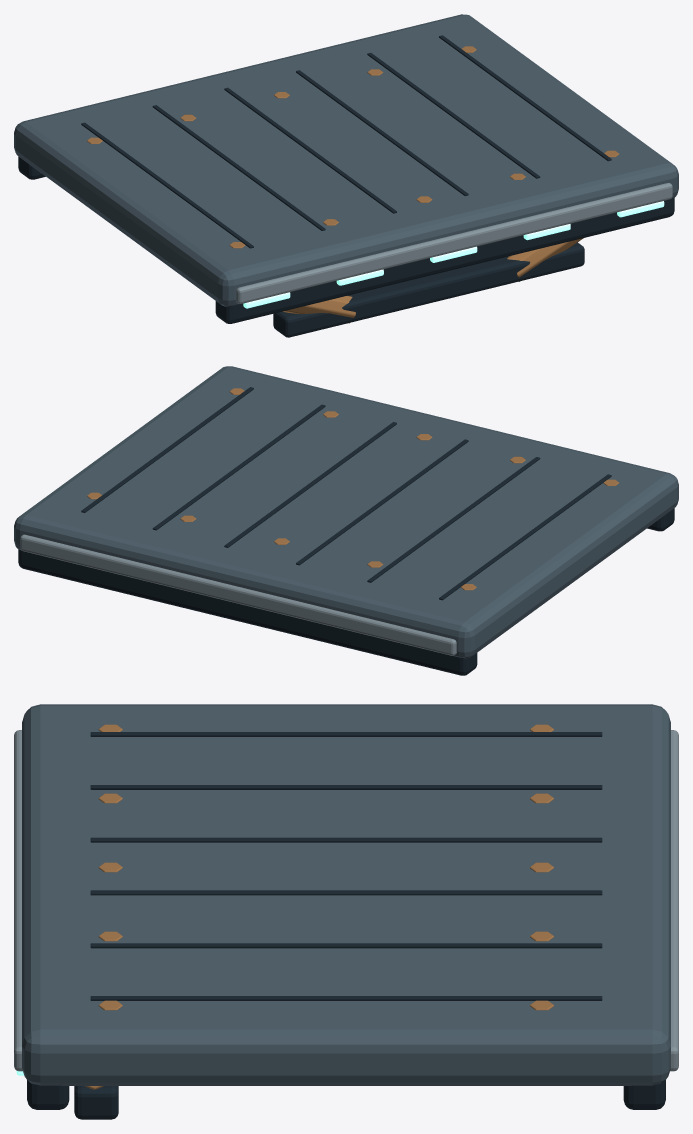
Rendered from traverse_ledge.glb.
The picture shows the model from 3 angles, top to bottom: view 1: azimuth 30°, elevation 25°; view 2: azimuth 150°, elevation 25°; view 3: azimuth 270°, elevation 25°; orthographic projection. The views are drawn at different scales.
Visible parts, largest first — view 1: traverse_ledge; view 2: traverse_ledge; view 3: traverse_ledge.
Part boxes in pixels (left/top/right/bottom): traverse_ledge: left=14, top=14, right=678, bottom=337; traverse_ledge: left=14, top=366, right=678, bottom=675; traverse_ledge: left=14, top=704, right=678, bottom=1119.
Bounding box in the file's own units: 3.98 × 0.8298 × 3.3.
